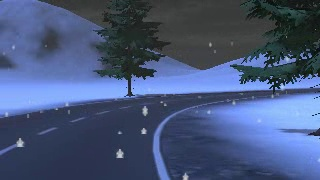Lane: (0, 88, 318, 179)
